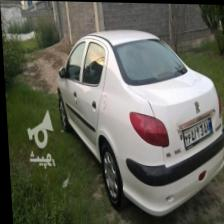plate: (181, 112, 213, 147)
